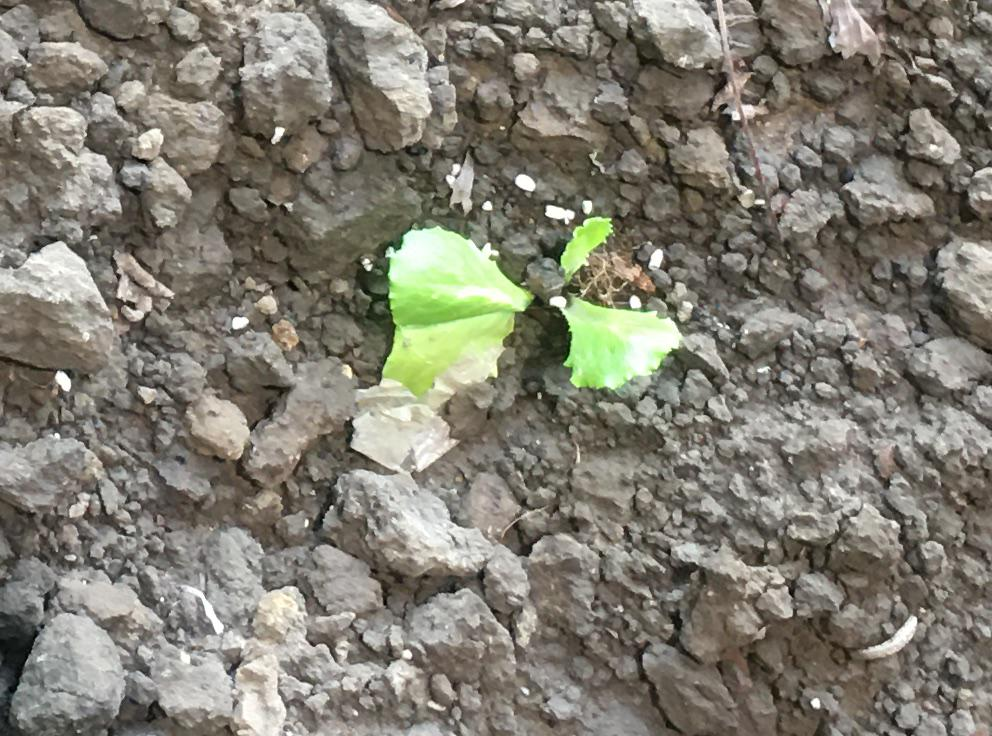block: (321, 470, 490, 586), (325, 1, 433, 156), (1, 241, 119, 372), (8, 614, 125, 734), (235, 15, 332, 138), (409, 587, 515, 686)
